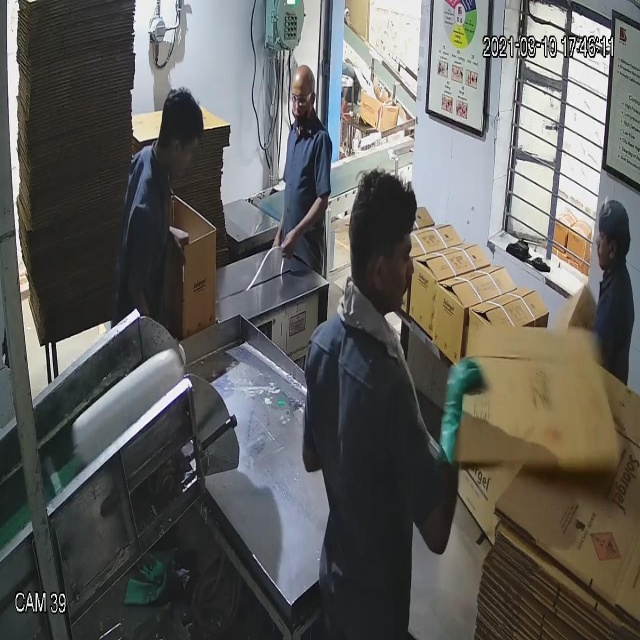Guantes: (431, 344, 488, 483)
Sin_guantes: (272, 192, 336, 266)
